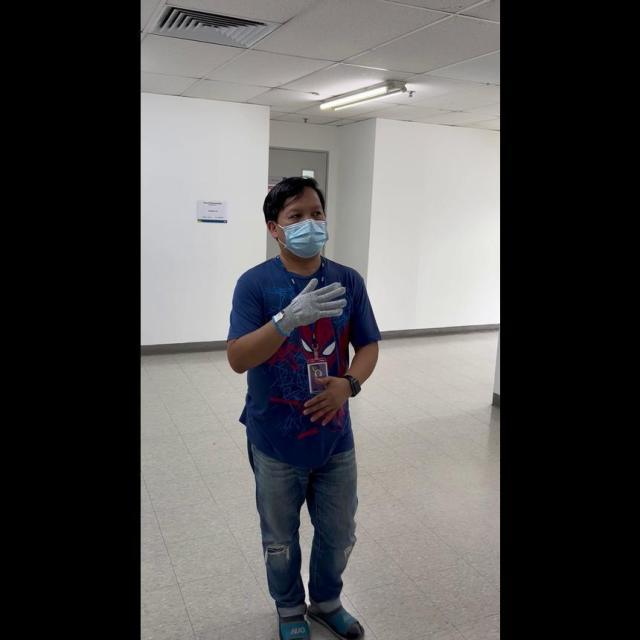bare_hand: (303, 372, 351, 423)
gloved_hand: (270, 275, 346, 333)
